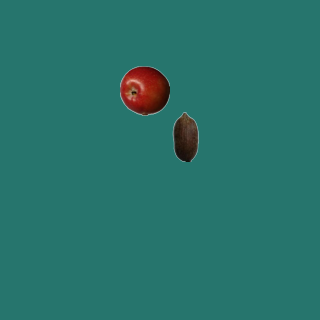Apple Braeburn: (119, 65, 169, 115)
Nut Pecan: (160, 111, 210, 161)
